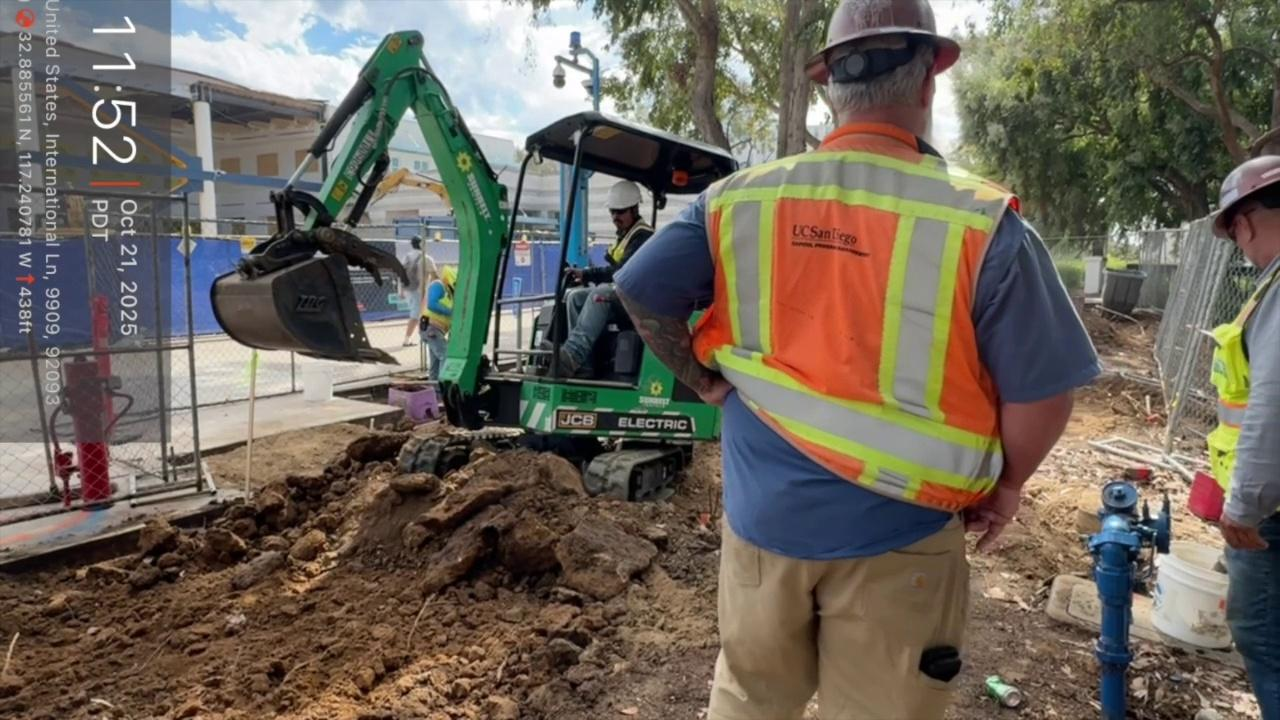Exacavator: (209, 27, 744, 503)
